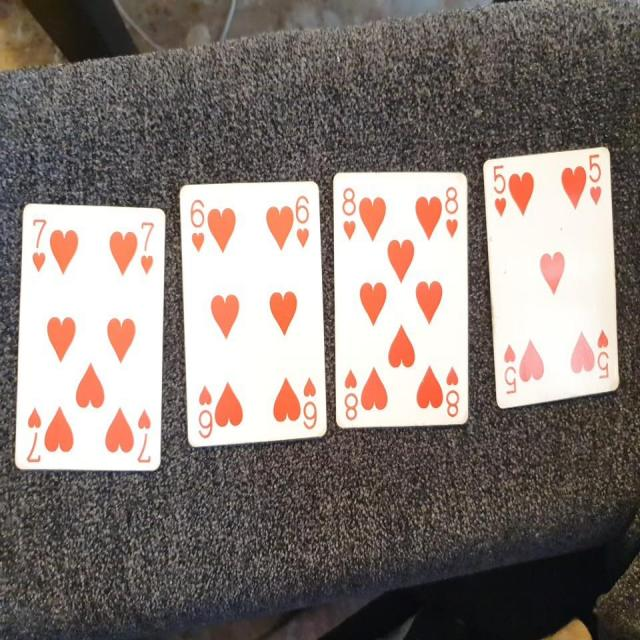5 Hearts: (481, 132, 624, 414)
6 Hearts: (170, 175, 328, 448)
7 Hearts: (5, 194, 172, 485)
8 Hearts: (334, 162, 472, 426)
